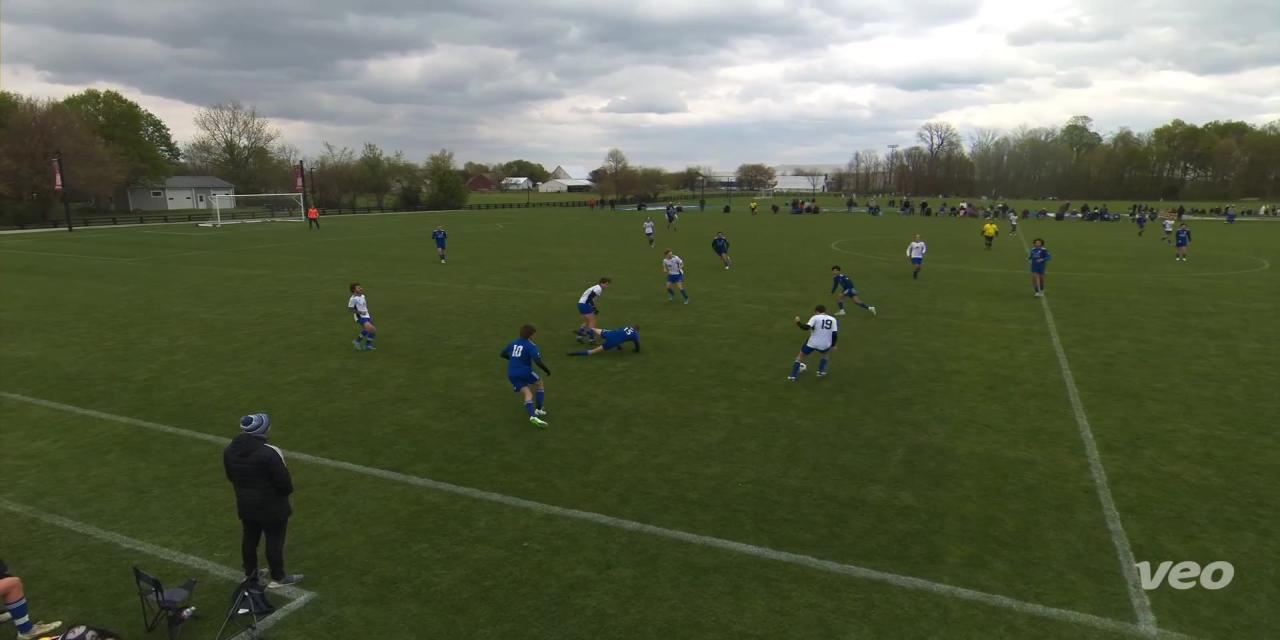goal: (191, 190, 307, 229)
sports ball: (786, 353, 814, 378)
